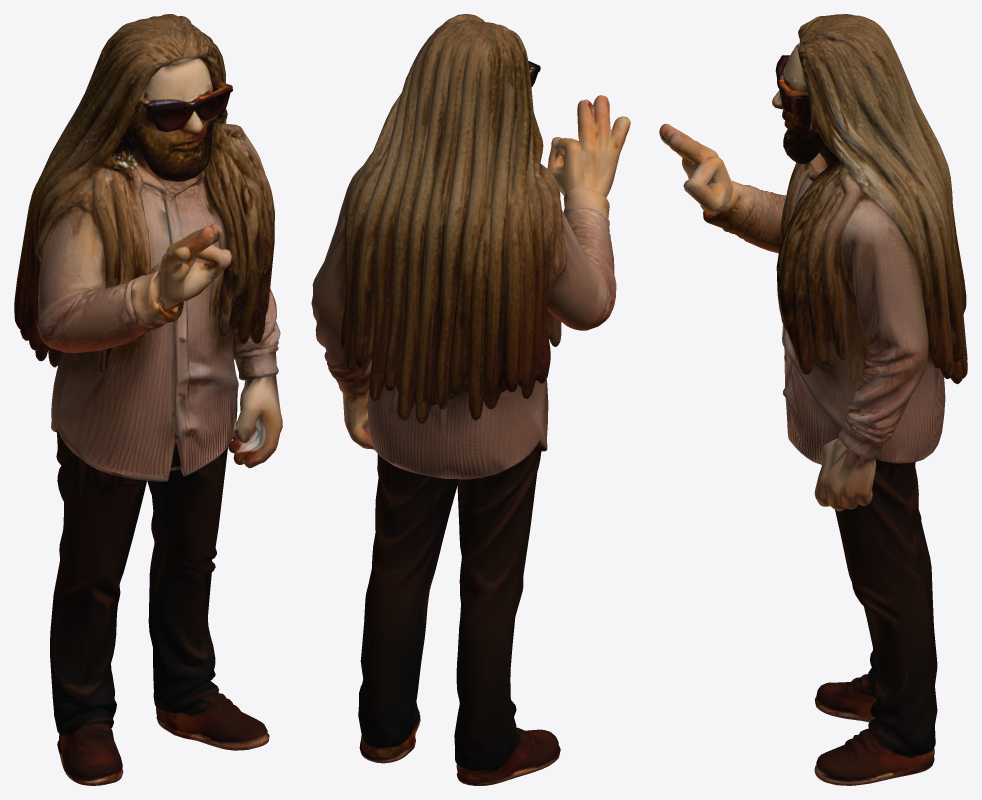
File: jahman_mobile.glb
3 views of the same model, side by side, from view 1: azimuth 30°, elevation 25°; view 2: azimuth 150°, elevation 25°; view 3: azimuth 270°, elevation 25° (orthographic). The views are drawn at different scales.
Visible parts, largest first — view 1: material.001; view 2: material.001; view 3: material.001.
Part boxes in pixels (x1,y1,x2,y2): material.001: (14, 14, 282, 785); material.001: (311, 14, 630, 785); material.001: (659, 14, 967, 785).
Size of the model in its own units: 0.4249 by 1.14 by 0.4429.
Materials: 1 (1 with a texture image).
